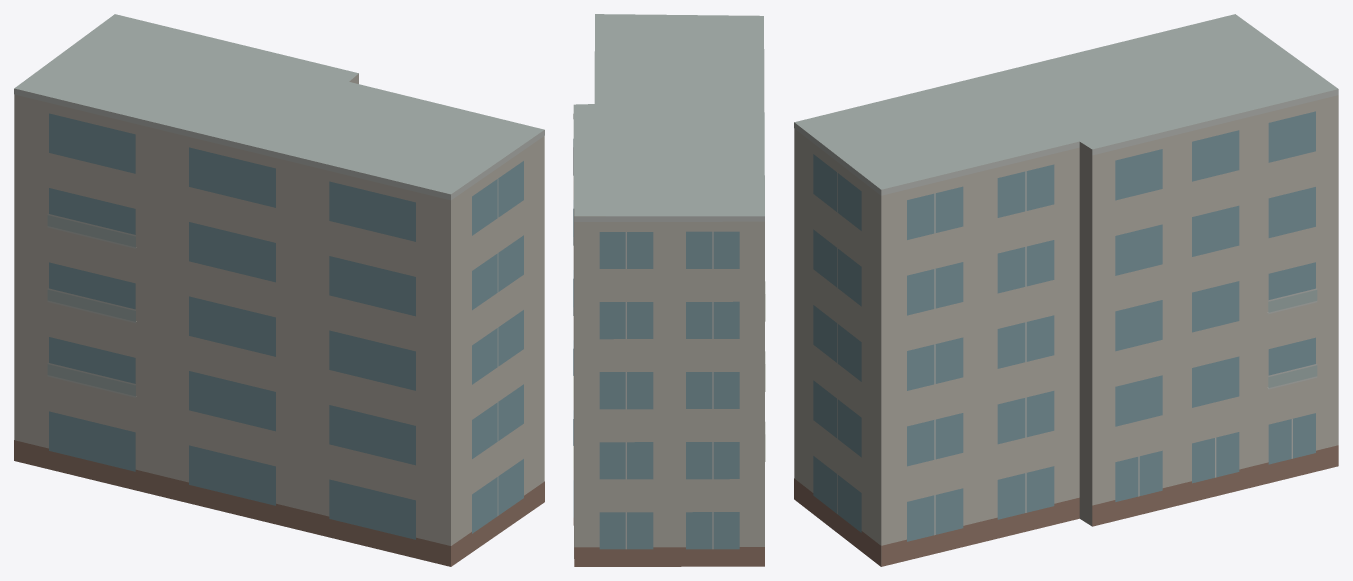
Rendered from survey-upis-32868562.glb.
3 renders of one model, left to right at view 1: azimuth 30°, elevation 25°; view 2: azimuth 150°, elevation 25°; view 3: azimuth 270°, elevation 25°, orthographic. The views are drawn at different scales.
Parts seen in each view (by area): view 1: survey-upis-32868562.tmp; view 2: survey-upis-32868562.tmp; view 3: survey-upis-32868562.tmp.
Boxes of the visible parts, x1,y1,x2,y2 form: survey-upis-32868562.tmp: [14, 14, 544, 566]; survey-upis-32868562.tmp: [573, 14, 765, 566]; survey-upis-32868562.tmp: [794, 14, 1338, 566].
Size of the model in its own units: 15.25 by 15.25 by 19.96.
